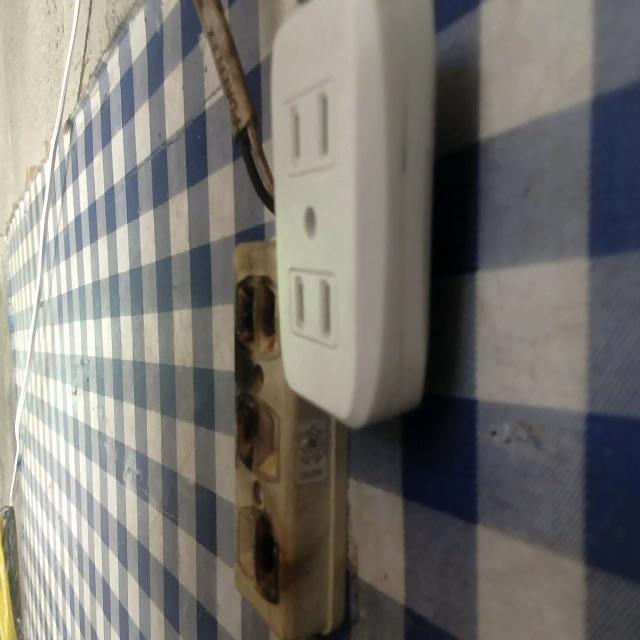-: (229, 271, 282, 364), (252, 516, 284, 604), (231, 394, 261, 474)
